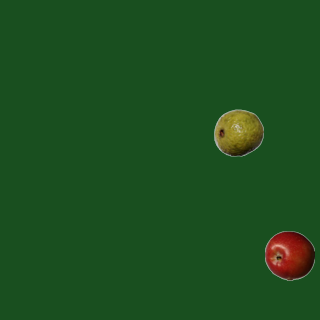Apple Braeburn: (264, 230, 314, 280)
Guava: (213, 107, 263, 157)
